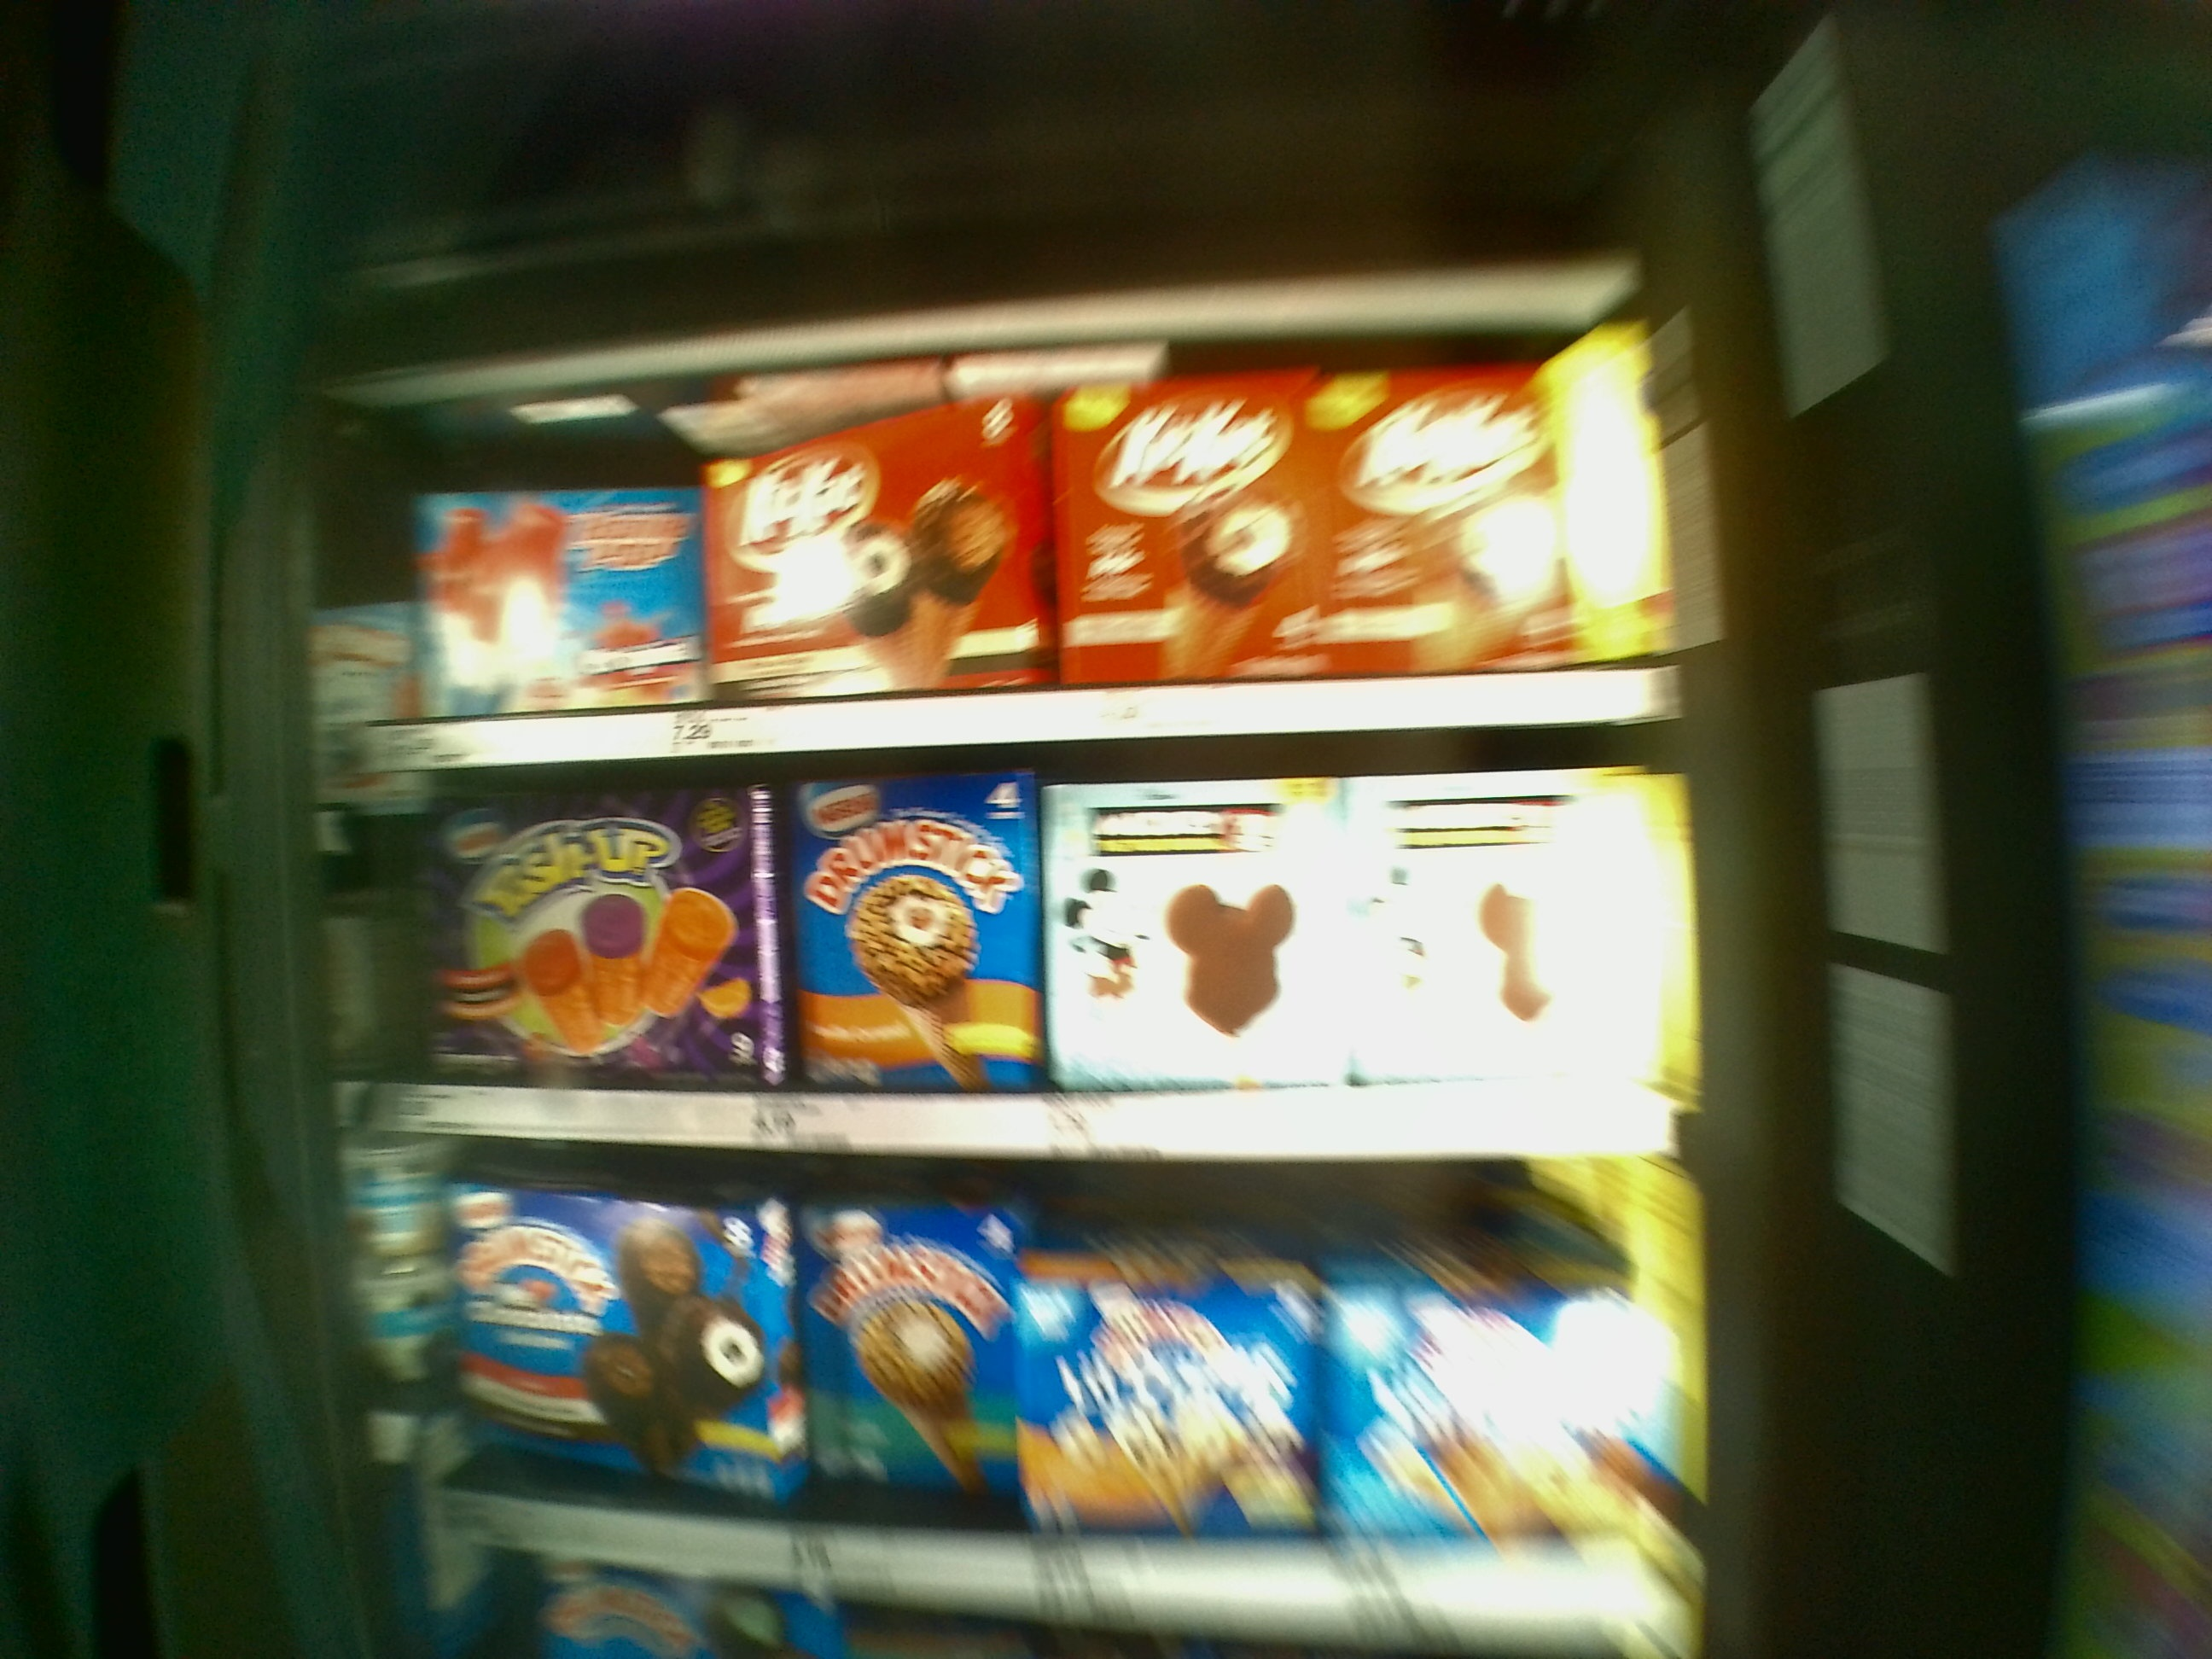shelf: (380, 1141, 1696, 1650), (329, 338, 1693, 756), (333, 775, 1695, 1148)
